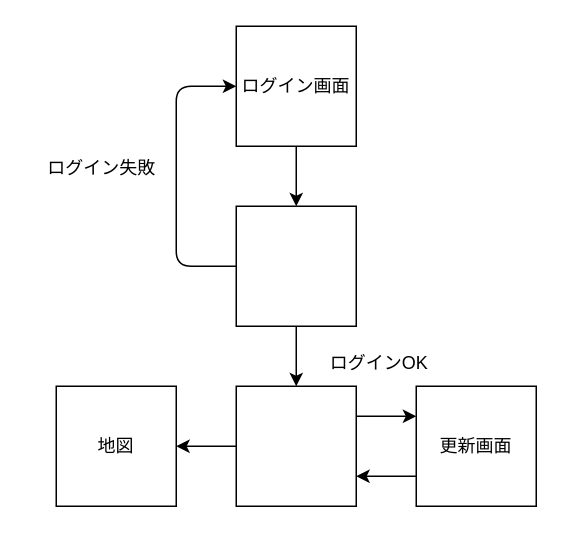
Image size: 563x533. Some labels were removed from this diagram. Each missing label, with the centre of its shape:
"ダッシュボード" belongs at pixel 295 265.
"訪問記録画面" belongs at pixel 295 445.
